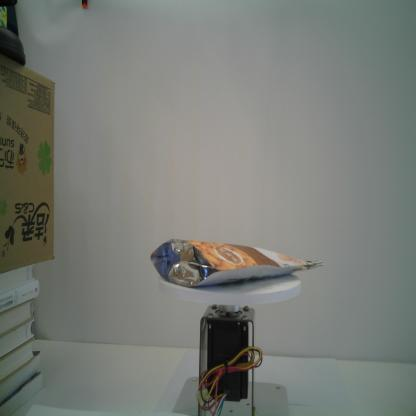Dried Fruit: (150, 238, 325, 288)
